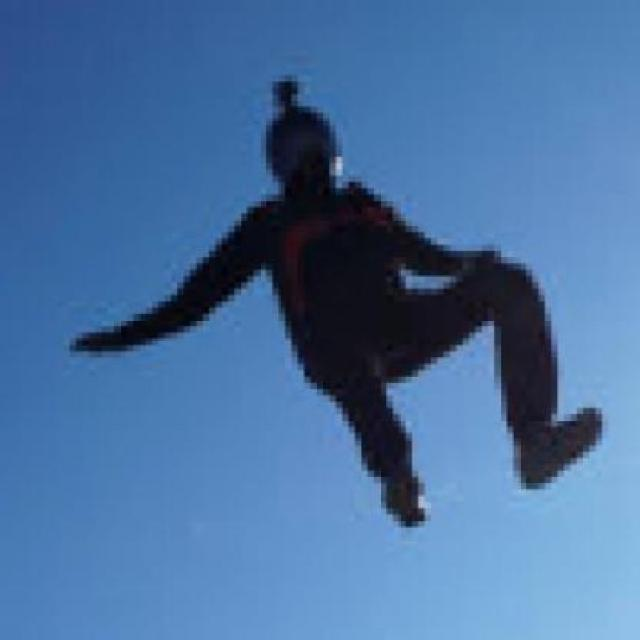fall: (65, 74, 608, 529)
